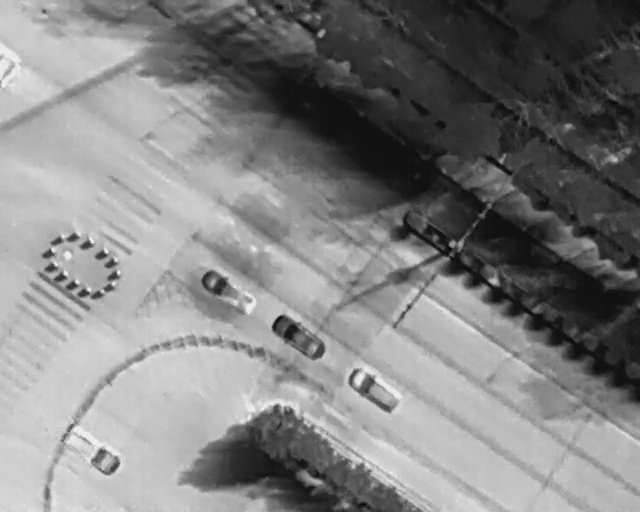Car: (55, 421, 124, 479), (195, 265, 261, 319), (267, 310, 329, 363), (342, 366, 402, 415)
